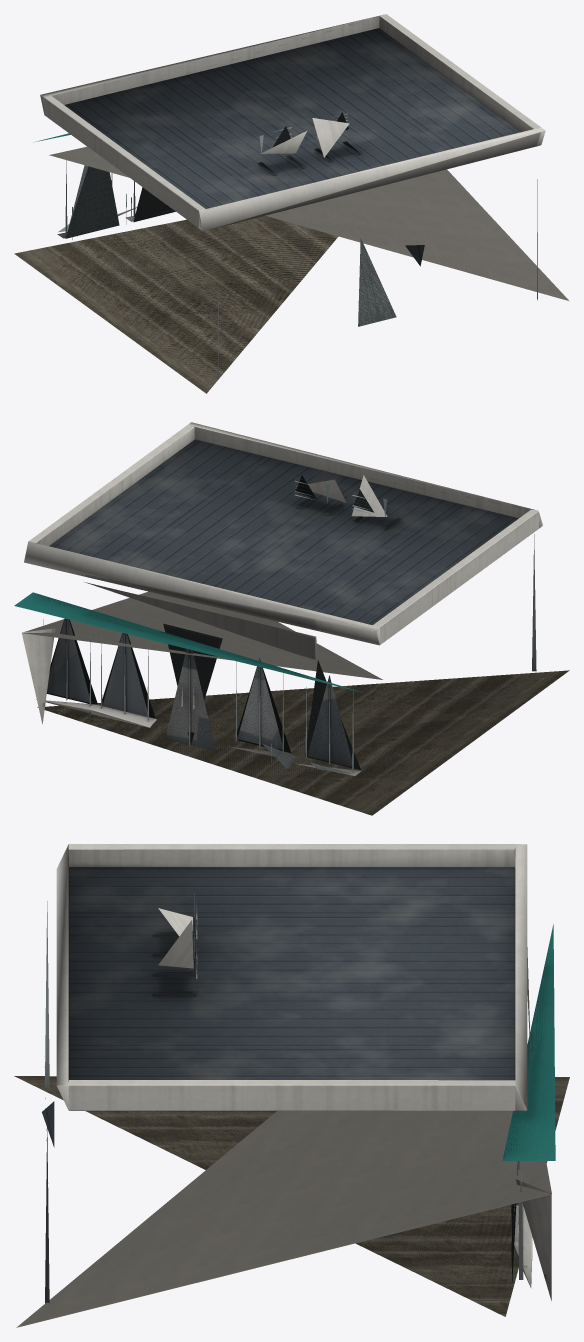
The model's file is shop_006.lod2.obj.
3 renders of one model, top to bottom at view 1: azimuth 30°, elevation 25°; view 2: azimuth 150°, elevation 25°; view 3: azimuth 270°, elevation 25°, orthographic. The views are drawn at different scales.
Visible parts, largest first — view 1: shop_006; view 2: shop_006; view 3: shop_006.
Boxes of the visible parts, x1,y1,x2,y2 form: shop_006: (14,14,569,393); shop_006: (14,422,569,815); shop_006: (14,844,569,1327).
Size of the model in its own units: 7.75 by 3.88 by 7.1.
1 material, 1 textured.
